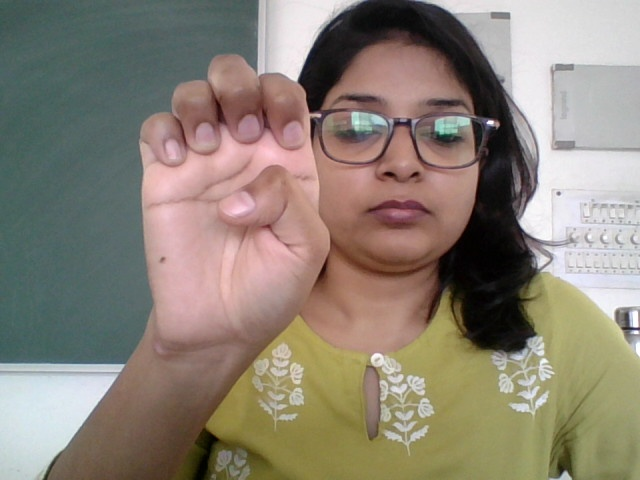E: (122, 50, 331, 345)
